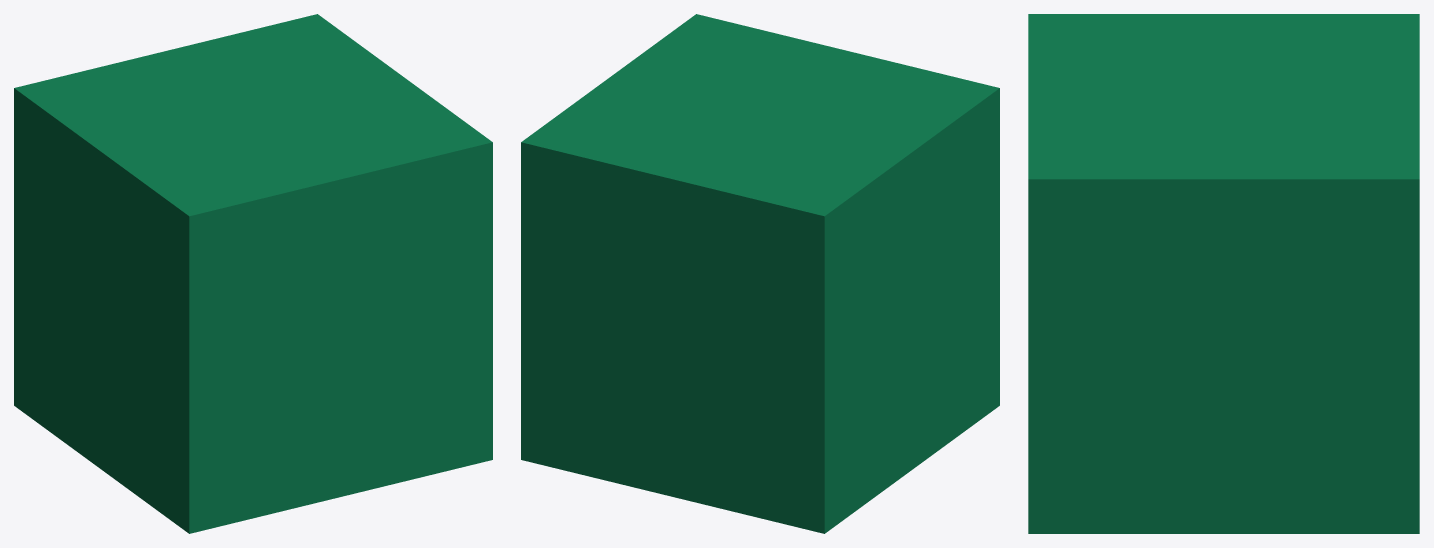
Rendered from CuboVerde.gltf.
3 views of the same model, side by side, from view 1: azimuth 30°, elevation 25°; view 2: azimuth 150°, elevation 25°; view 3: azimuth 270°, elevation 25° (orthographic). The views are drawn at different scales.
Visible parts, largest first — view 1: Cubo; view 2: Cubo; view 3: Cubo.
Boxes of the visible parts, x1,y1,x2,y2 form: Cubo: (14,14,492,533); Cubo: (521,14,999,533); Cubo: (1028,14,1419,533).
Size of the model in its own units: 1.8 by 1.8 by 1.8.
